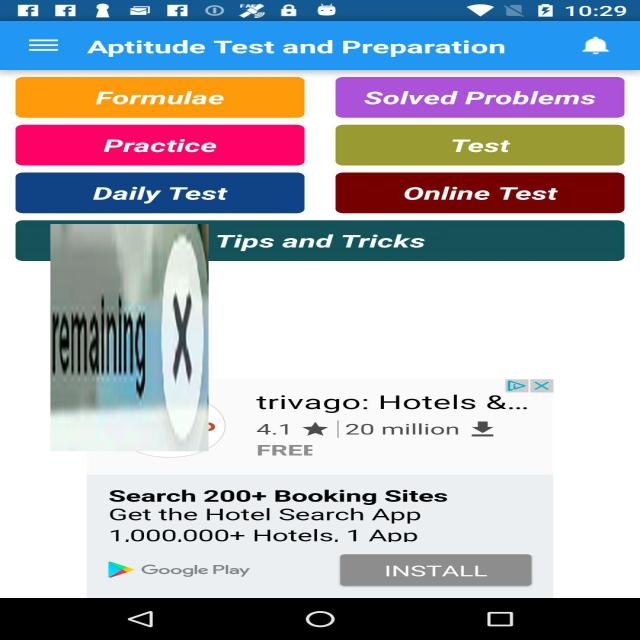misdirection: (50, 224, 208, 451)
